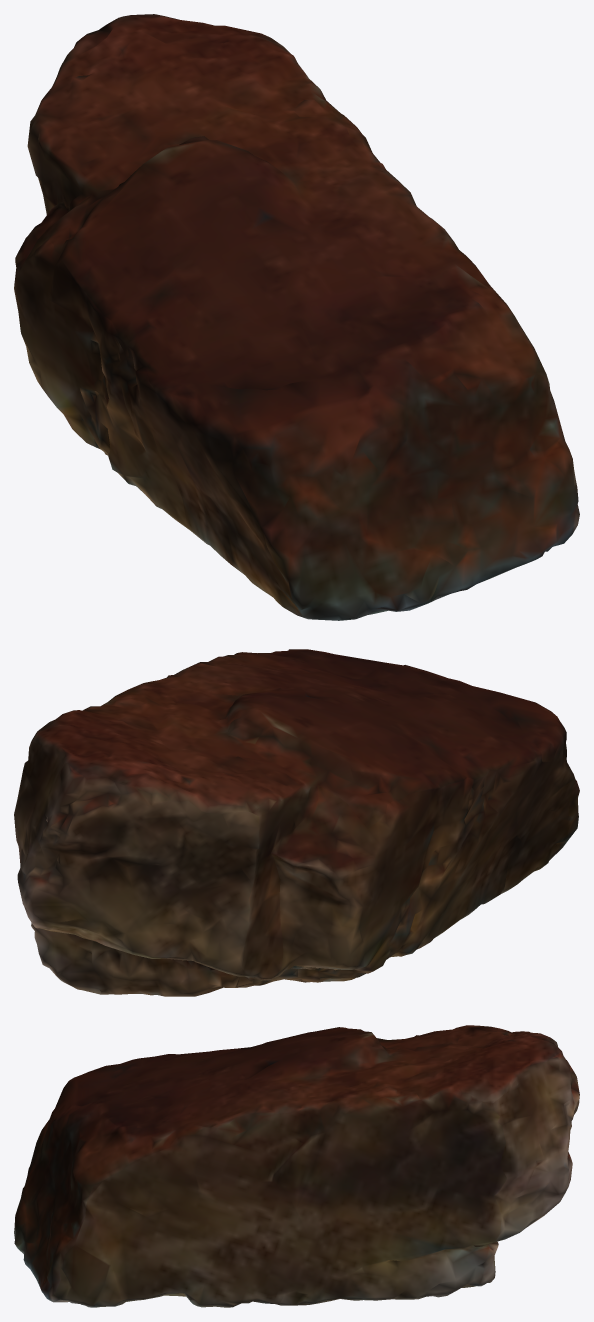
Rendered from rock_07_lod1.glb.
3 renders of one model, top to bottom at view 1: azimuth 30°, elevation 25°; view 2: azimuth 150°, elevation 25°; view 3: azimuth 270°, elevation 25°, orthographic. The views are drawn at different scales.
Visible parts, largest first — view 1: rock_07; view 2: rock_07; view 3: rock_07.
Part boxes in pixels (left/top/right/bottom): rock_07: left=14, top=14, right=579, bottom=620; rock_07: left=14, top=649, right=579, bottom=996; rock_07: left=14, top=1025, right=579, bottom=1307.
Size of the model in its own units: 0.1686 by 0.1437 by 0.3202.
Materials: 1 (1 with a texture image).
